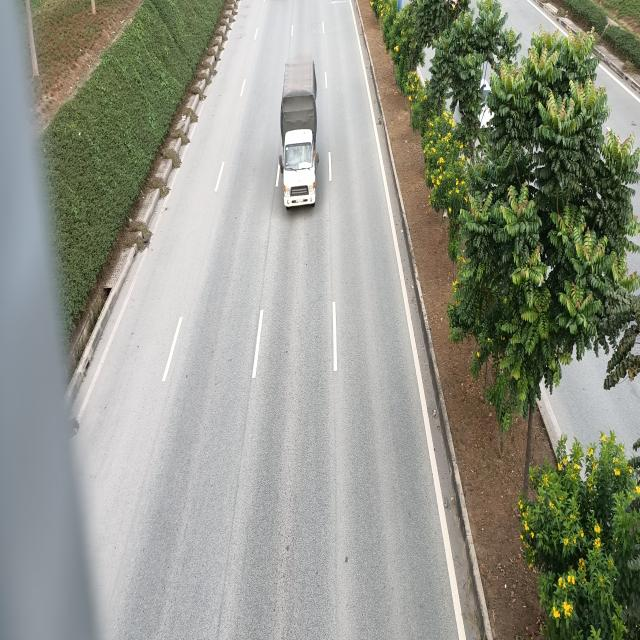truck: (278, 57, 317, 210)
